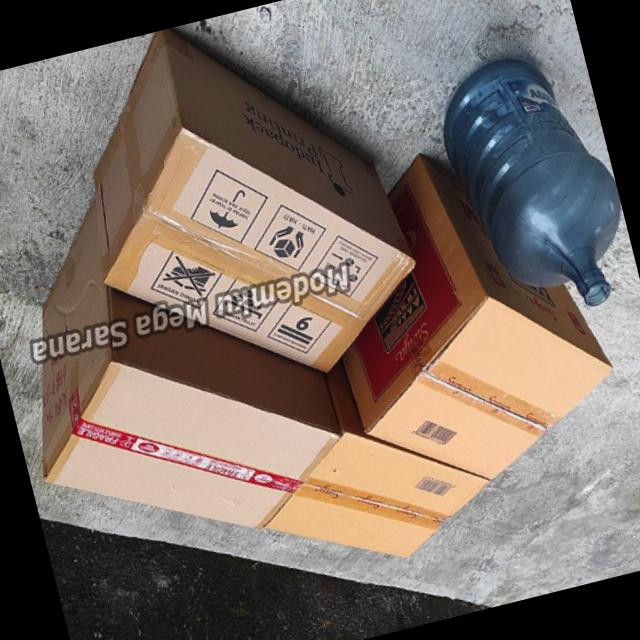Kardus: (0, 0, 640, 640), (47, 0, 438, 421)
